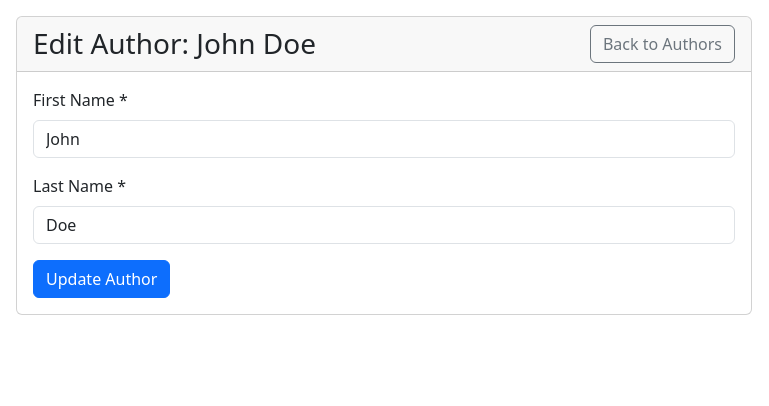
AuthorEdit › shows submit error when update fails
The width and height of the screenshot is (769, 406).
Step 1. Click the button "Update Author" → click(102, 279), box top-left (33, 260), bottom-right (170, 298)
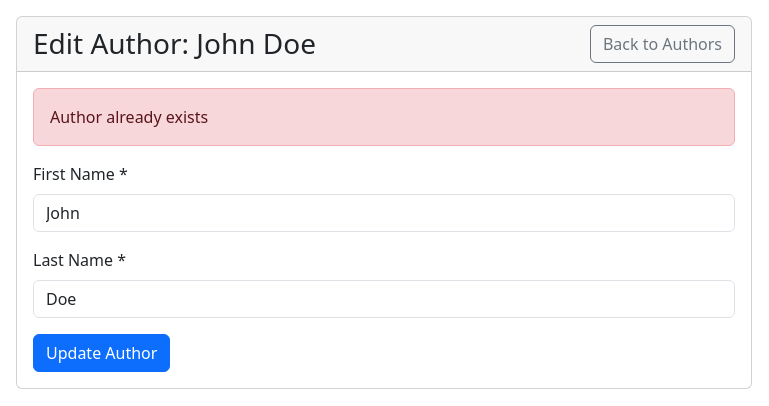
Check: the text "Author already exists" is shown, box top-left (33, 88), bottom-right (735, 146)
